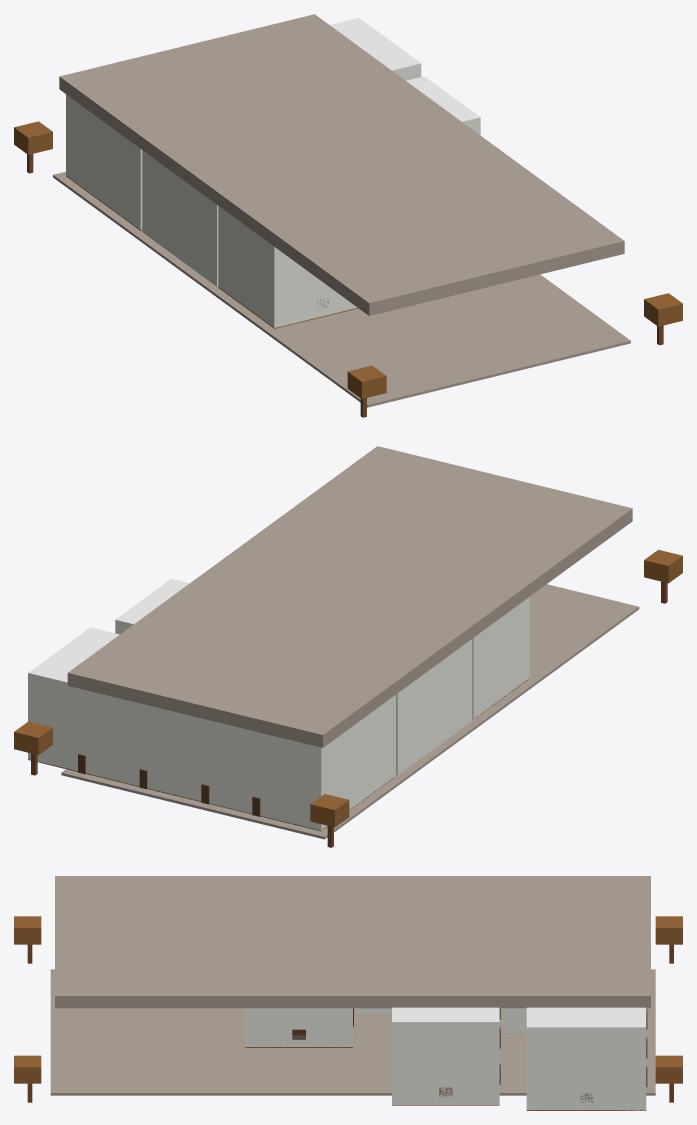
Rendered from enhanced_boq_fallback_1751741218461_qo77zdm3i.obj.
3 renders of one model, top to bottom at view 1: azimuth 30°, elevation 25°; view 2: azimuth 150°, elevation 25°; view 3: azimuth 270°, elevation 25°, orthographic. The views are drawn at different scales.
Visible parts, largest first — view 1: Roof, Foundation, Wall_Left_4, Wall_Left_0, Wall_Left_8, Wall_Back_8, Ceiling_3, Ceiling_7, TreeFoliage_2, TreeFoliage_0, TreeFoliage_3; view 2: Roof, Wall_Front_0, Foundation, Wall_Front_2, Wall_Front_1, Wall_Left_4, Wall_Left_0, Wall_Front_3, Wall_Left_8, Ceiling_3, Ceiling_7, TreeFoliage_0 (+2 smaller); view 3: Roof, Foundation, Wall_Right_3, Wall_Right_7, Wall_Right_9, Ceiling_3, Ceiling_7, TreeFoliage_0, TreeFoliage_2, TreeFoliage_1, TreeFoliage_3, Wall_Right_0.
Part boxes in pixels (bbox=[...]): Roof: bbox=[59, 14, 624, 315]; Foundation: bbox=[53, 171, 630, 407]; Wall_Left_4: bbox=[143, 151, 218, 286]; Wall_Left_0: bbox=[66, 95, 142, 229]; Wall_Left_8: bbox=[218, 206, 275, 327]; Wall_Back_8: bbox=[273, 246, 354, 327]; Ceiling_3: bbox=[330, 18, 421, 70]; Ceiling_7: bbox=[406, 76, 480, 122]; TreeFoliage_2: bbox=[347, 365, 386, 398]; TreeFoliage_0: bbox=[14, 121, 52, 154]; TreeFoliage_3: bbox=[644, 293, 682, 326]; Roof: bbox=[67, 446, 632, 747]; Wall_Front_0: bbox=[192, 716, 322, 830]; Foundation: bbox=[61, 584, 639, 839]; Wall_Front_2: bbox=[90, 691, 197, 799]; Wall_Front_1: bbox=[151, 706, 259, 812]; Wall_Left_4: bbox=[396, 639, 471, 775]; Wall_Left_0: bbox=[319, 695, 395, 831]; Wall_Front_3: bbox=[28, 674, 135, 784]; Wall_Left_8: bbox=[473, 598, 528, 718]; Ceiling_3: bbox=[28, 627, 119, 683]; Ceiling_7: bbox=[115, 578, 189, 624]; TreeFoliage_0: bbox=[310, 794, 349, 827]; Roof: bbox=[55, 876, 650, 1008]; Foundation: bbox=[50, 969, 655, 1095]; Wall_Right_3: bbox=[526, 1028, 645, 1110]; Wall_Right_7: bbox=[392, 1023, 498, 1105]; Wall_Right_9: bbox=[245, 1008, 352, 1047]; Ceiling_3: bbox=[526, 1007, 646, 1027]; Ceiling_7: bbox=[392, 1007, 499, 1022]; TreeFoliage_0: bbox=[655, 916, 682, 944]; TreeFoliage_2: bbox=[14, 916, 41, 944]; TreeFoliage_1: bbox=[655, 1055, 682, 1083]; TreeFoliage_3: bbox=[14, 1055, 41, 1083]; Wall_Right_0: bbox=[502, 1008, 526, 1033].
Size of the model in its own units: 39.59 by 11.8 by 73.16.
